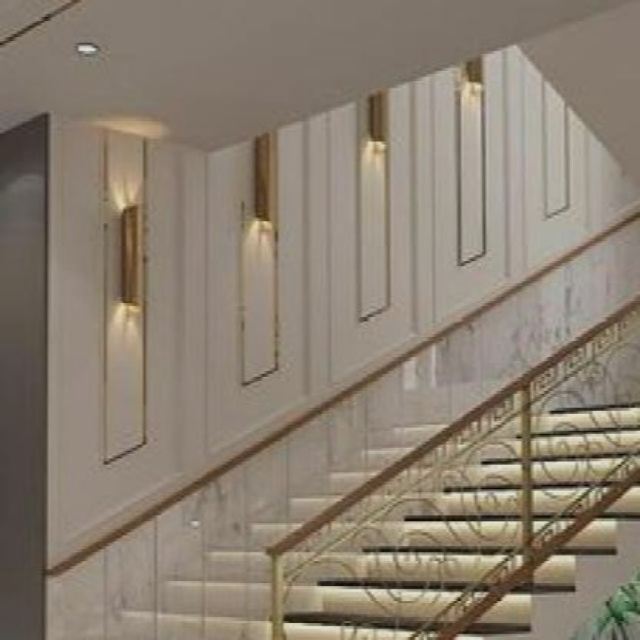stair: (38, 362, 640, 638)
